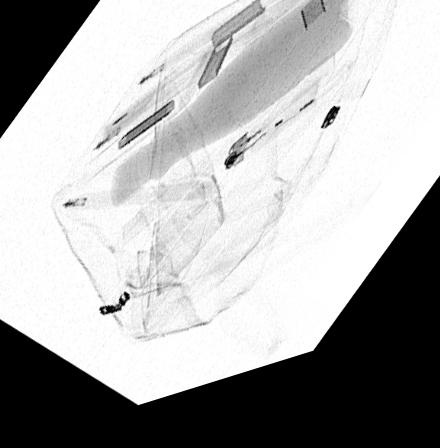Lighter: (220, 94, 319, 186)
